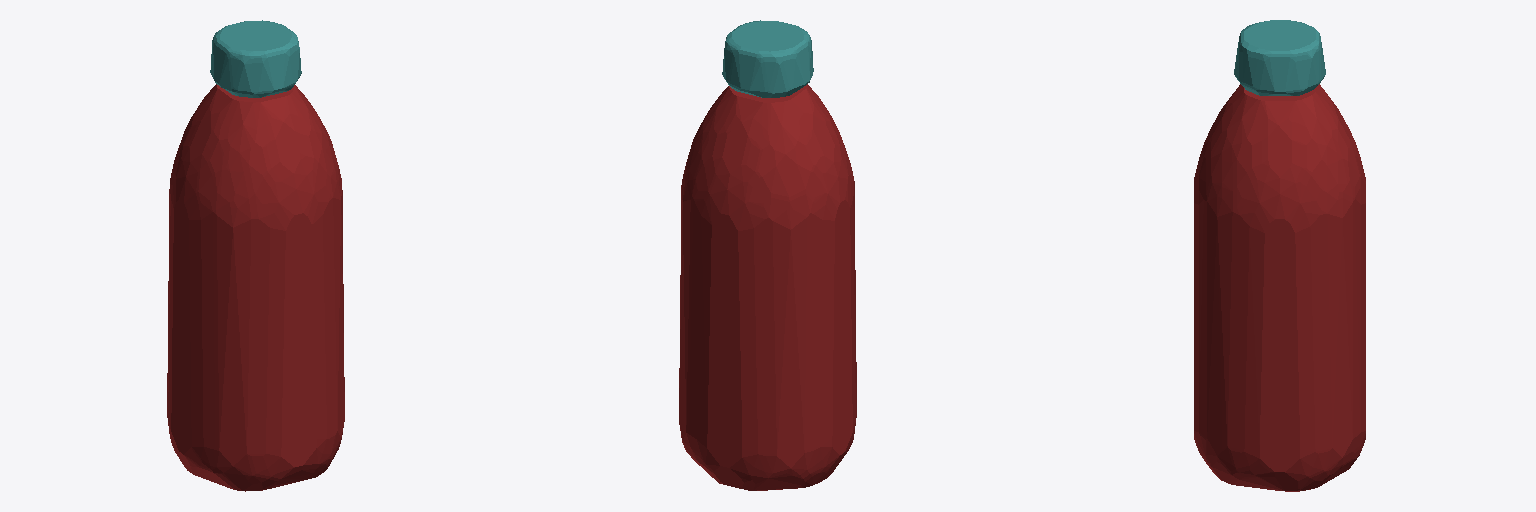
URDF robot description (root):
<robot name="root">
  <link name="bottle_body">
    <inertial>
      <origin xyz="0 0 0" rpy="0 0 0"/>
    </inertial>
    <mass value="1.00E-02"/>
    <visual>
      <origin xyz="0 0 0" rpy="0 0 0"/>
      <geometry>
        <mesh filename="core-bottle-21239b0cafa13526cafb7c62b057a234-coacd_convex_piece_1.obj" scale="1.0000E-01 1.0000E-01 1.0000E-01"/>
      </geometry>
      <material name="">
        <color rgba="6.00E-01 2.00E-01 2.00E-01 1"/>
      </material>
    </visual>
    <collision>
      <origin xyz="0 0 0" rpy="0 0 0"/>
      <geometry>
        <mesh filename="core-bottle-21239b0cafa13526cafb7c62b057a234-coacd_convex_piece_1.obj" scale="1.0000E-01 1.0000E-01 1.0000E-01"/>
      </geometry>
    </collision>
  </link>
  <link name="bottle_cap">
    <origin xyz="0 0 0.002" rpy="0 0 0"/>
    <mass value="1.00E-02"/>
    <visual>
      <origin xyz="0 0 0.002" rpy="0 0 0"/>
      <geometry>
        <mesh filename="core-bottle-21239b0cafa13526cafb7c62b057a234-coacd_convex_piece_0.obj" scale="1.0000E-01 1.0000E-01 1.0000E-01"/>
      </geometry>
      <material name="">
        <color rgba="3.00E-01 6.00E-01 6.00E-01 1"/>
      </material>
    </visual>
    <collision>
      <origin xyz="0 0 0.002" rpy="0 0 0"/>
      <geometry>
        <mesh filename="core-bottle-21239b0cafa13526cafb7c62b057a234-coacd_convex_piece_0.obj" scale="1.0000E-01 1.0000E-01 1.0000E-01"/>
      </geometry>
    </collision>
  </link>
  <joint name="bottle_cap_joint" type="revolute">
    <origin xyz="0 0 0" rpy="0 0 0"/>
    <parent link="bottle_body"/>
    <child link="bottle_cap"/>
    <axis xyz="0 0 1"/>
    <limit lower="0.00" upper="6.28"/>
    <dynamics damping="0.05"/>
  </joint>
</robot>

--- What the picture shows (computed from the rendered views, not written in the file) ---
Views: 3 orthographic renders of the robot side by side, from view 1: azimuth 30°, elevation 25°; view 2: azimuth 150°, elevation 25°; view 3: azimuth 270°, elevation 25°.
Model root with 2 links and 1 joints (1 revolute), rooted at bottle_body, posed all joints at 0.
Links seen in each view (by area): view 1: bottle_body, bottle_cap; view 2: bottle_body, bottle_cap; view 3: bottle_body, bottle_cap.
Link boxes in pixels (bbox=[...]): bottle_body: bbox=[167, 84, 344, 491]; bottle_cap: bbox=[210, 20, 301, 97]; bottle_body: bbox=[679, 84, 856, 490]; bottle_cap: bbox=[722, 20, 813, 97]; bottle_body: bbox=[1194, 84, 1365, 491]; bottle_cap: bbox=[1234, 20, 1325, 95].
Size in the robot's own frame: 0.0695 by 0.0695 by 0.1901 metres.
2 mesh visuals loaded from 2 distinct referenced files (2 OBJ).